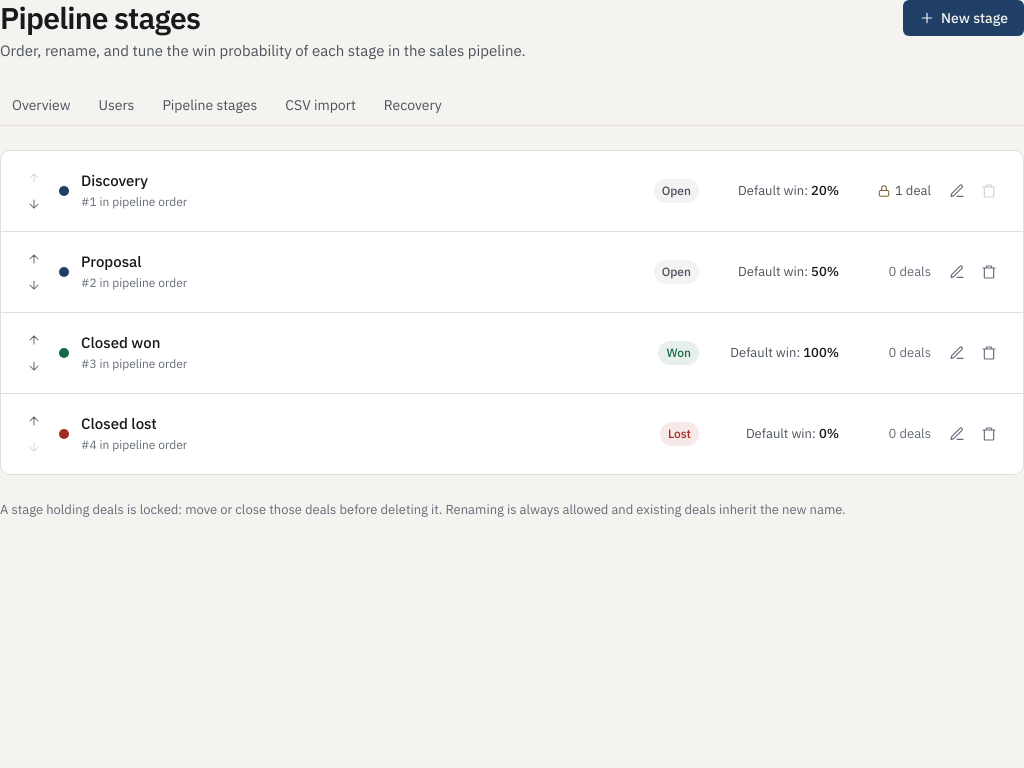
Test: AdminStagesPage › maps validation details onto the new-stage form
The width and height of the screenshot is (1024, 768).
Check: the text "Discovery" is shown, box [81,171,148,190]
Click the button "New stage" at (964, 18), box [903,0,1023,36]
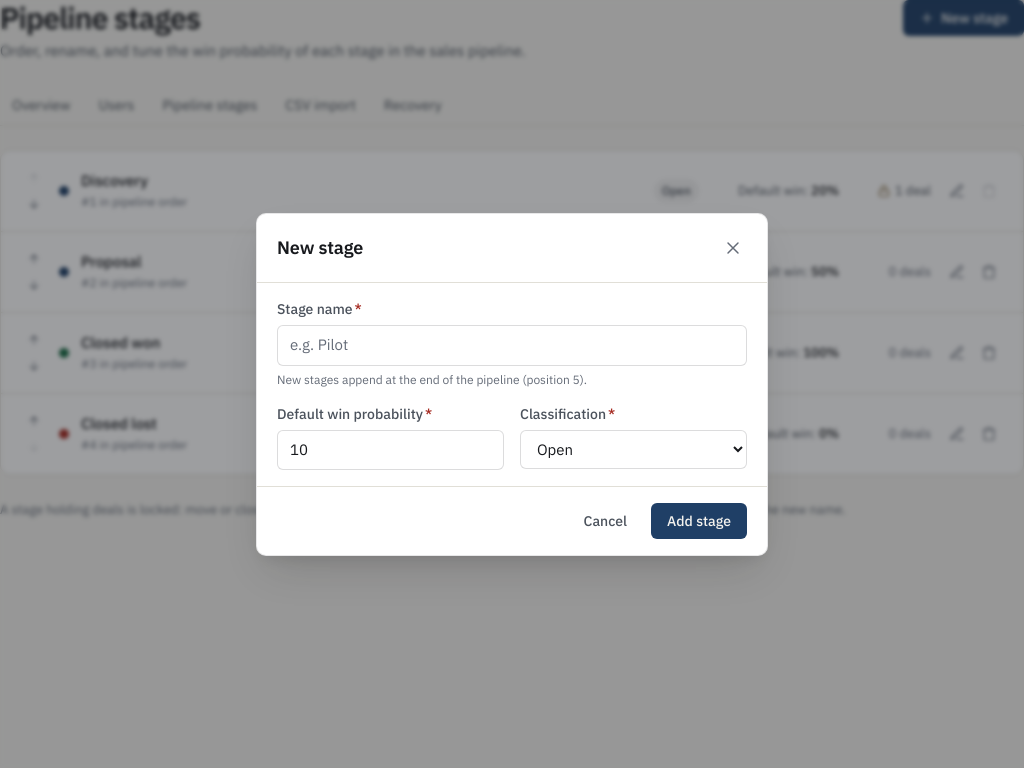
Click the button "Add stage" at (699, 520), box [651,502,747,538]
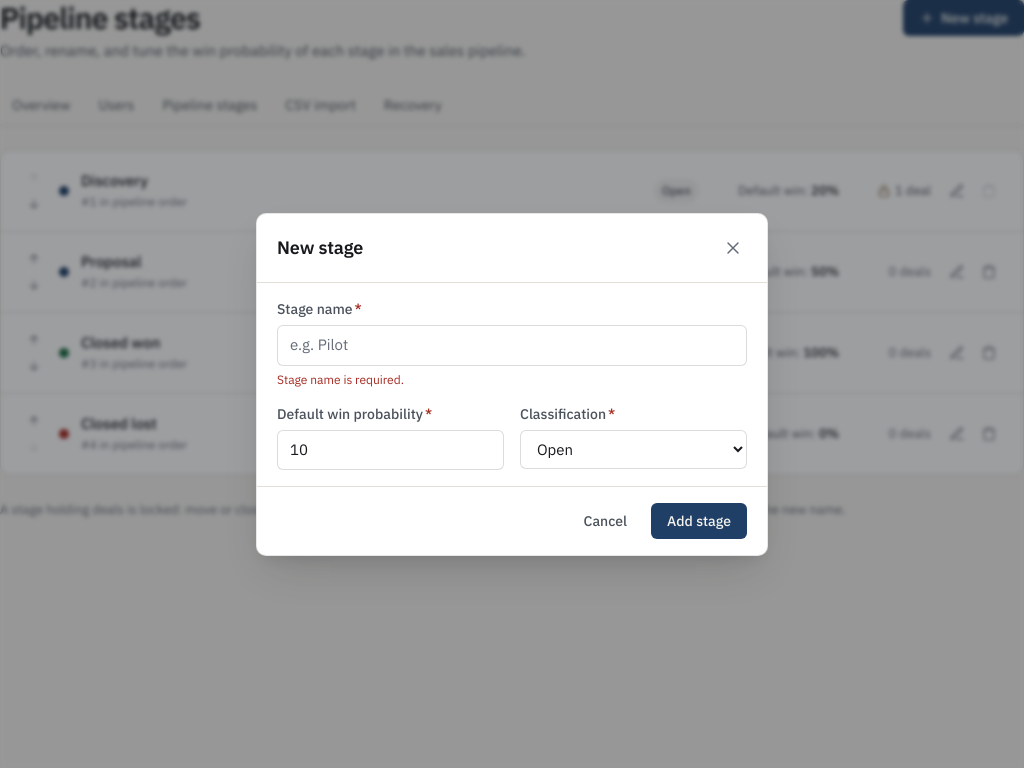
Check: the dialog "New stage" is shown, box [256,212,768,556]
Check: the text "Stage name is required." is shown, box [277,371,404,386]
